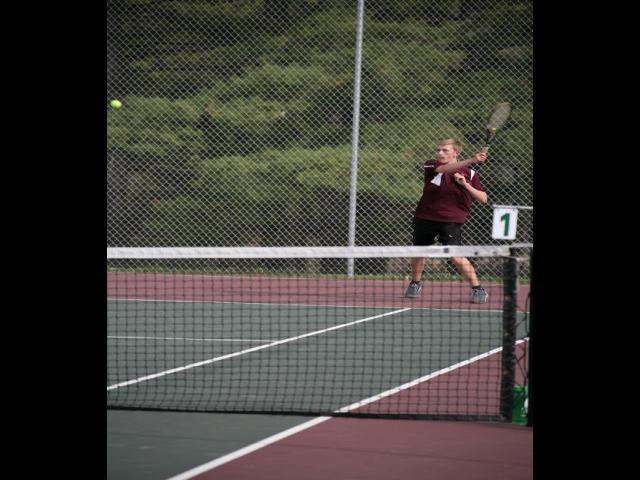tennis-ball: (108, 100, 120, 108)
